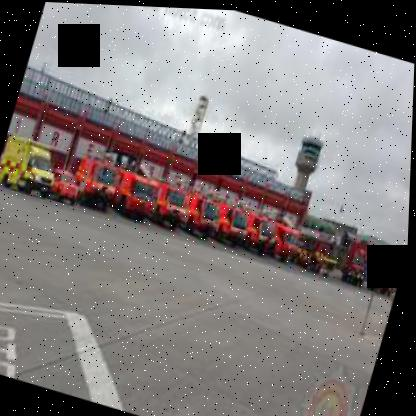emergency: (0, 125, 71, 212), (69, 149, 130, 216), (111, 166, 166, 226), (148, 173, 200, 233), (334, 232, 383, 291), (178, 190, 230, 242), (294, 227, 346, 279), (210, 195, 257, 247), (45, 162, 91, 211), (272, 213, 314, 266), (240, 208, 286, 256), (366, 252, 404, 298)
